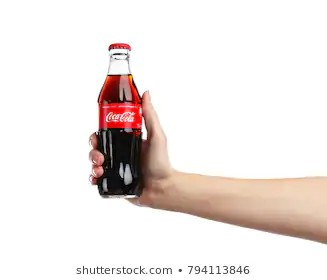coke-glass-bottle: (96, 33, 150, 199)
